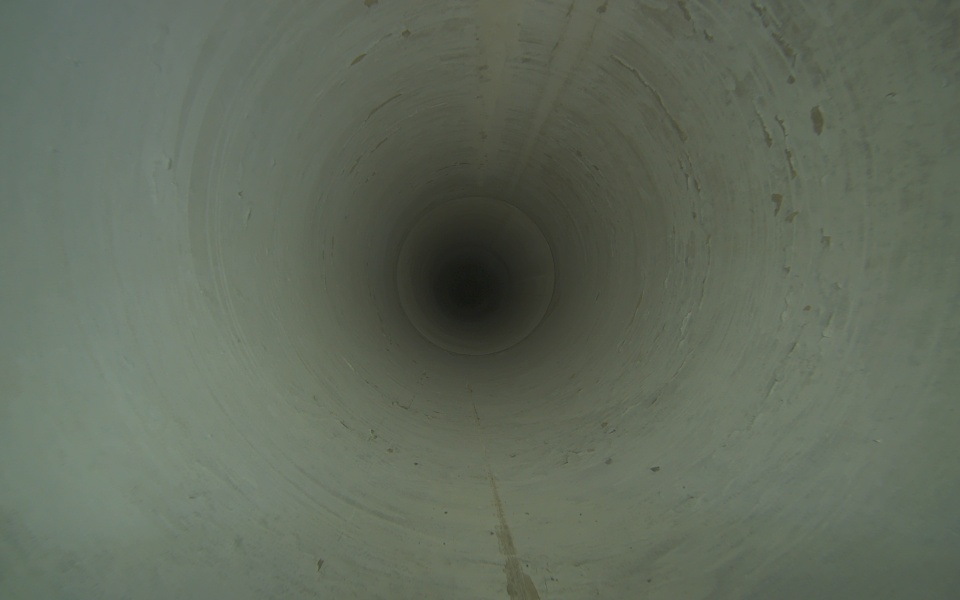circle1: (392, 193, 560, 359)
circle2: (449, 268, 488, 307)
